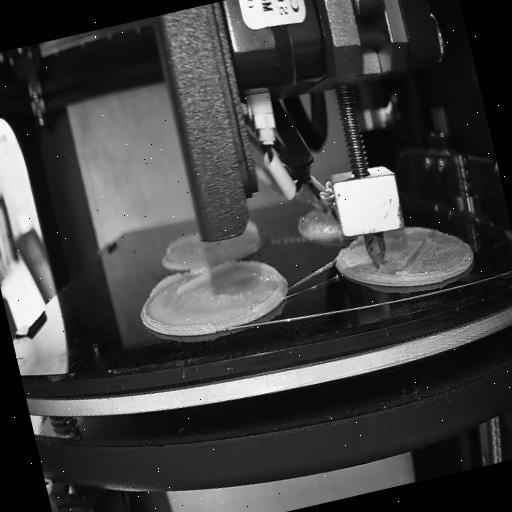over_extrusion: (144, 258, 235, 304), (239, 252, 285, 296)
